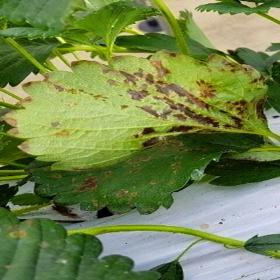Angular Leafspot: (1, 49, 272, 172), (22, 133, 267, 215)
